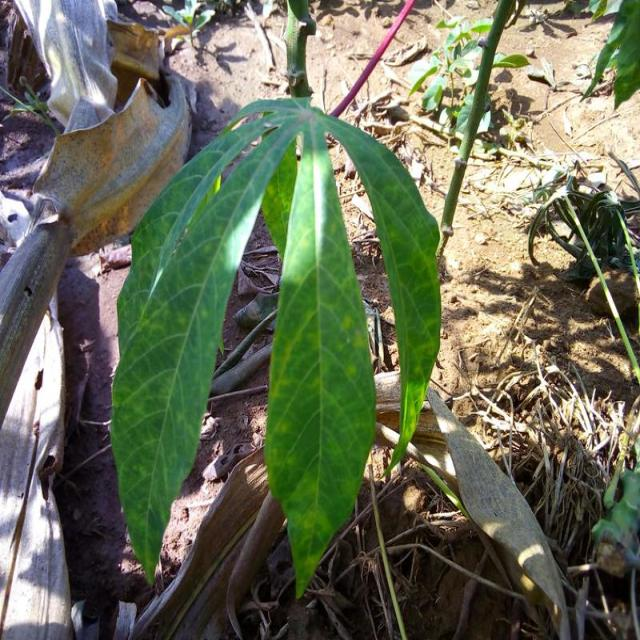cassava leaf: (110, 94, 442, 597), (263, 114, 377, 599)
